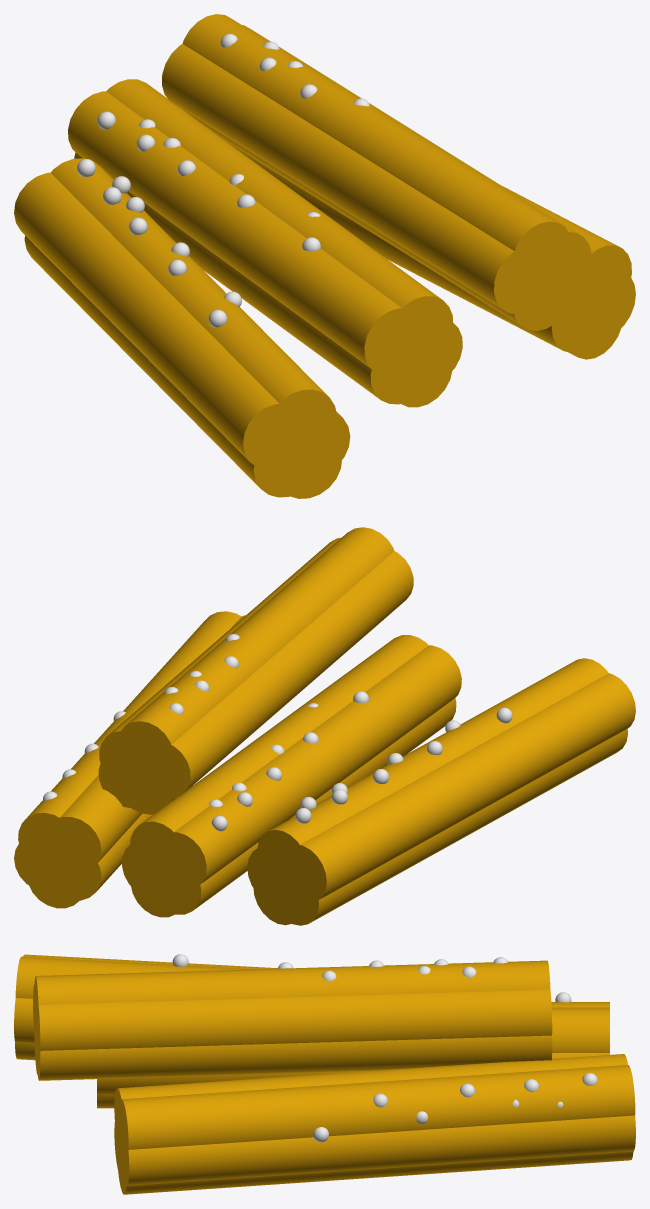
Rendered from churros.fbx.
3 views of the same model, one above another, from view 1: azimuth 30°, elevation 25°; view 2: azimuth 150°, elevation 25°; view 3: azimuth 270°, elevation 25° (orthographic). The views are drawn at different scales.
Parts seen in each view (by area): view 1: pCylinder5 (×3), pCylinder4 (×4), pCylinder6 (×4), pCylinder3 (×4), pCylinder7 (×4); view 2: pCylinder5 (×4), pCylinder4 (×4), pCylinder6 (×4), pCylinder3 (×4), pCylinder7 (×4); view 3: pCylinder4 (×4), pCylinder3 (×4), pCylinder7 (×3), pCylinder5 (×3), pCylinder6.
Part boxes in pixels (x1,y1,x2,y2): pCylinder5 (×3): (14,44,550,470); pCylinder4 (×4): (50,14,631,456); pCylinder6 (×4): (24,110,596,497); pCylinder3 (×4): (242,25,635,476); pCylinder7 (×4): (274,253,623,498); pCylinder5 (×4): (43,551,635,903); pCylinder4 (×4): (18,527,608,889); pCylinder6 (×4): (43,615,627,925); pCylinder3 (×4): (14,537,341,905); pCylinder7 (×4): (27,750,303,925); pCylinder4 (×4): (15,956,635,1162); pCylinder3 (×4): (14,989,635,1185); pCylinder7 (×3): (15,1017,633,1194); pCylinder5 (×3): (23,954,627,1150); pCylinder6: (114,1118,124,1177).
Bounding box in the file's own units: 2.6 × 1.16 × 3.58.
